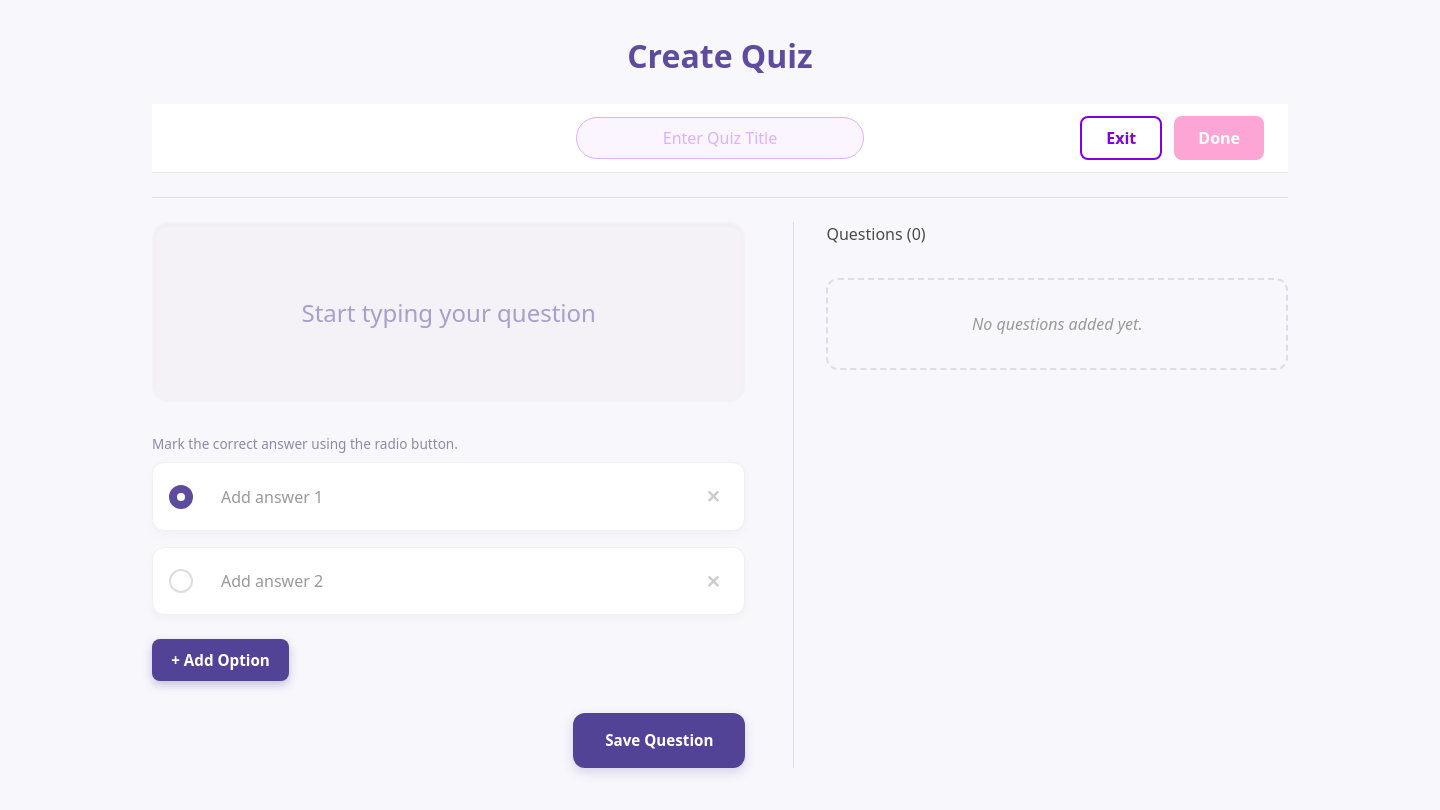
Scenario: QuizCreate Component (Unified Editor) › validates that a question has a prompt
Step 1. Click the button "Save Question" → click(659, 741), box 573,713 -> 745,768
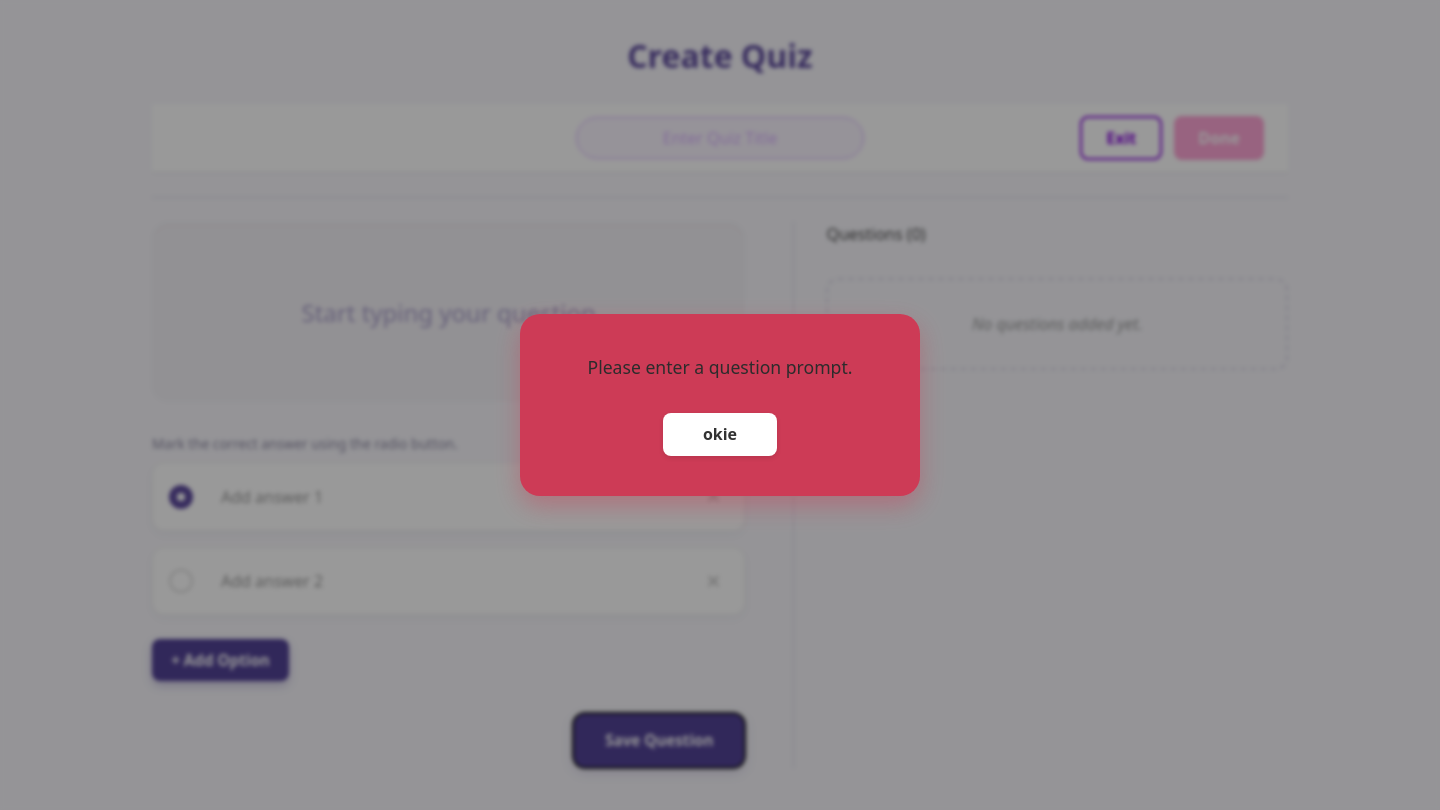
Now the text "Please enter a question prompt." is shown, box 588,355 -> 852,379
